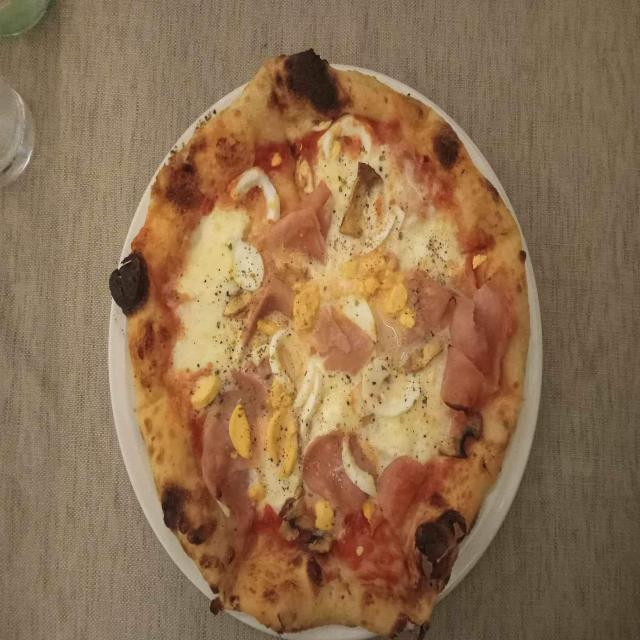Ham: (419, 278, 516, 402), (311, 442, 370, 504), (316, 306, 368, 362), (258, 223, 324, 261), (382, 464, 424, 520), (208, 423, 234, 502), (290, 192, 334, 226), (273, 264, 292, 316)
Pizza: (109, 59, 526, 638)
